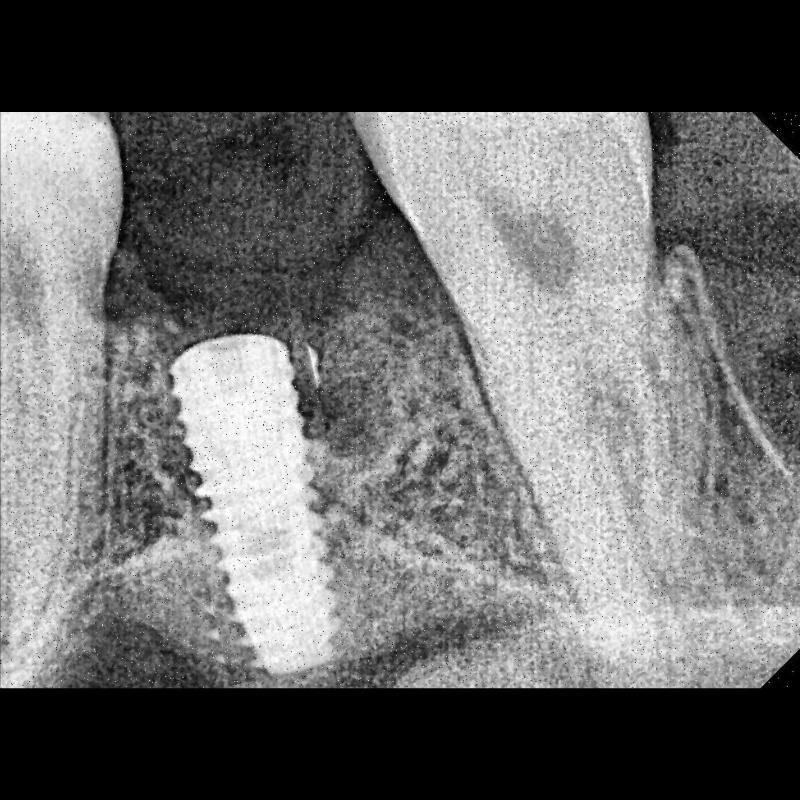osstem: (172, 314, 356, 680)
